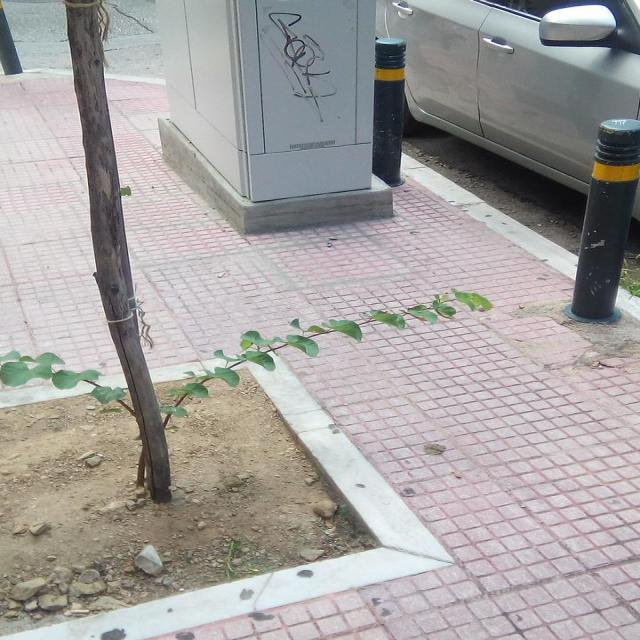nonspitting: (261, 8, 342, 104)
